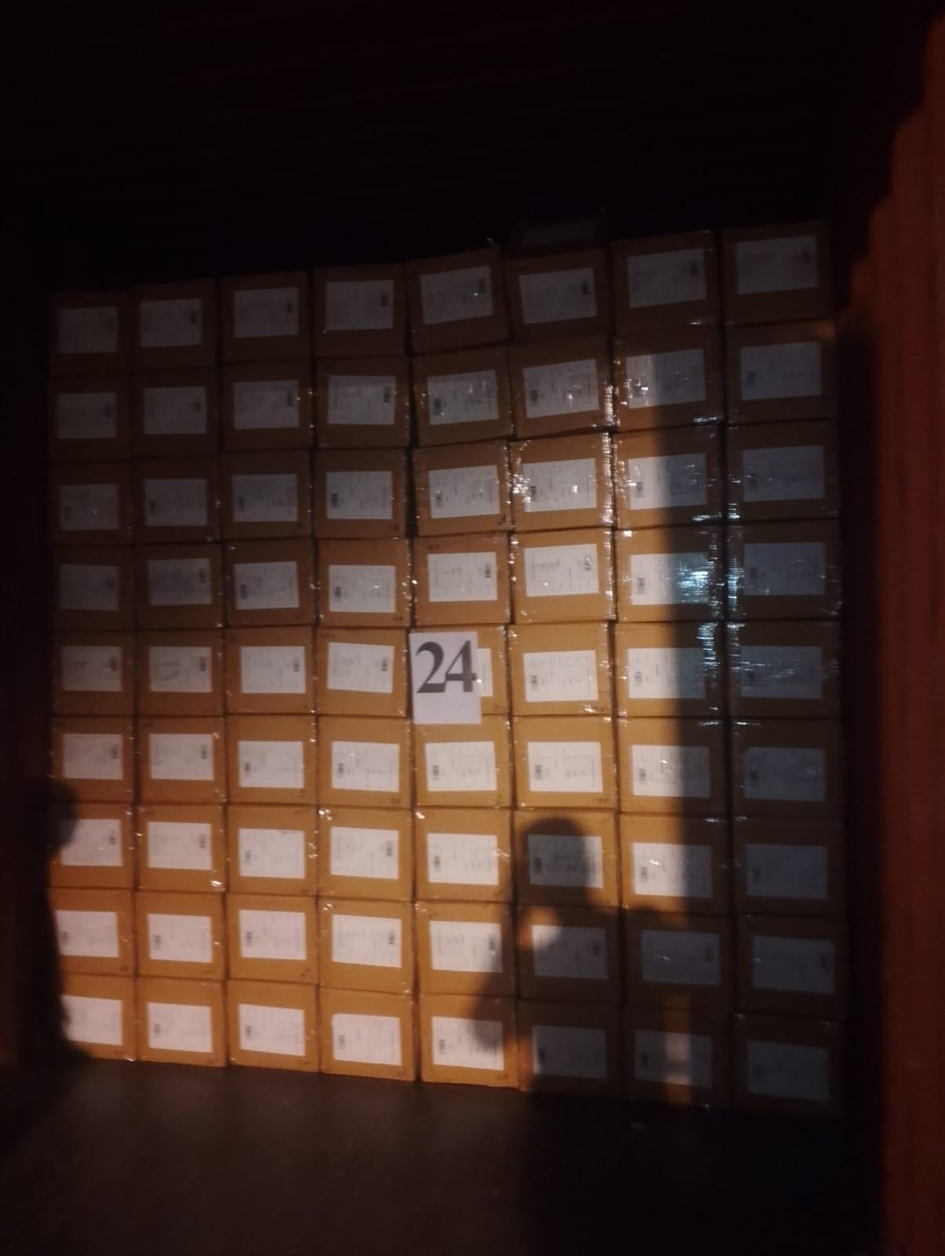carton: (721, 219, 834, 326), (613, 323, 724, 431), (724, 319, 837, 425), (726, 419, 840, 523), (736, 915, 848, 1020), (726, 520, 841, 622), (612, 425, 722, 529), (611, 230, 721, 334), (732, 1014, 843, 1117), (731, 719, 844, 820), (725, 621, 840, 720), (733, 817, 845, 918), (407, 243, 508, 354), (508, 334, 613, 439), (619, 815, 729, 915), (624, 911, 734, 1011), (623, 1007, 730, 1106), (617, 718, 725, 816), (516, 904, 620, 1005), (615, 526, 723, 623), (513, 809, 618, 908), (614, 623, 724, 717), (509, 433, 613, 532), (502, 250, 612, 343), (412, 346, 513, 447), (513, 715, 618, 811), (510, 528, 615, 624), (517, 1000, 620, 1097), (507, 623, 612, 717), (409, 626, 509, 723), (412, 441, 511, 537), (414, 901, 515, 995), (419, 994, 520, 1088), (318, 896, 414, 994), (318, 988, 415, 1082), (414, 809, 511, 903), (414, 717, 513, 809), (317, 807, 413, 901), (414, 533, 510, 627), (314, 356, 410, 450), (312, 448, 407, 540), (317, 717, 411, 809), (312, 265, 406, 357), (219, 270, 311, 363), (226, 980, 319, 1072), (221, 359, 313, 451), (315, 628, 408, 718), (225, 894, 318, 984), (227, 804, 318, 895), (226, 714, 317, 805), (318, 538, 411, 627), (219, 450, 312, 539), (223, 539, 316, 626), (134, 891, 224, 980), (131, 367, 219, 458), (129, 278, 217, 369), (137, 715, 225, 805), (137, 977, 225, 1067), (224, 626, 314, 714), (137, 804, 227, 892), (134, 542, 223, 630), (132, 455, 219, 543), (137, 630, 224, 717), (47, 801, 133, 889), (47, 888, 133, 976), (51, 973, 137, 1059), (46, 374, 130, 462), (50, 630, 134, 717), (49, 715, 133, 801), (51, 546, 134, 632), (48, 462, 131, 546), (48, 290, 129, 376)
